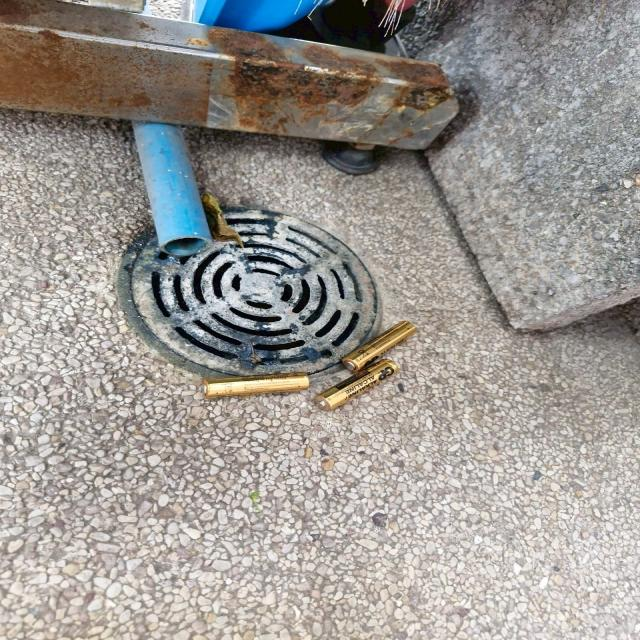battery: (340, 322, 412, 368), (196, 375, 311, 402)
